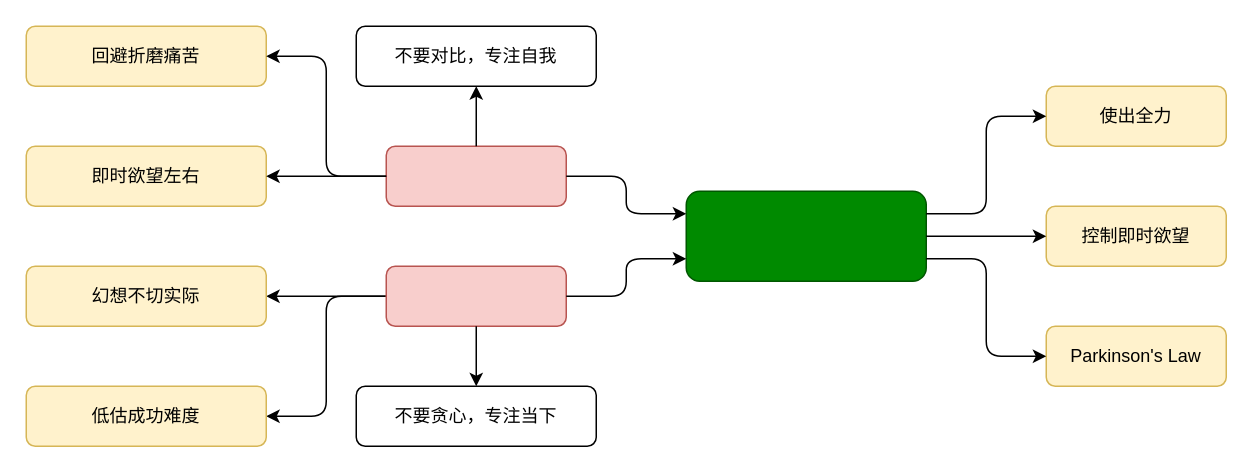
The diagram is 1253 pixels wide and 473 high, and some of its shapes have lost their labels. The box of each missing label's shape, as (x1, y1, x2, y2) in pixels:
按规划，完成任务: (685, 190, 926, 281)
现实残酷: (385, 265, 566, 326)
能力不足: (385, 145, 566, 206)
